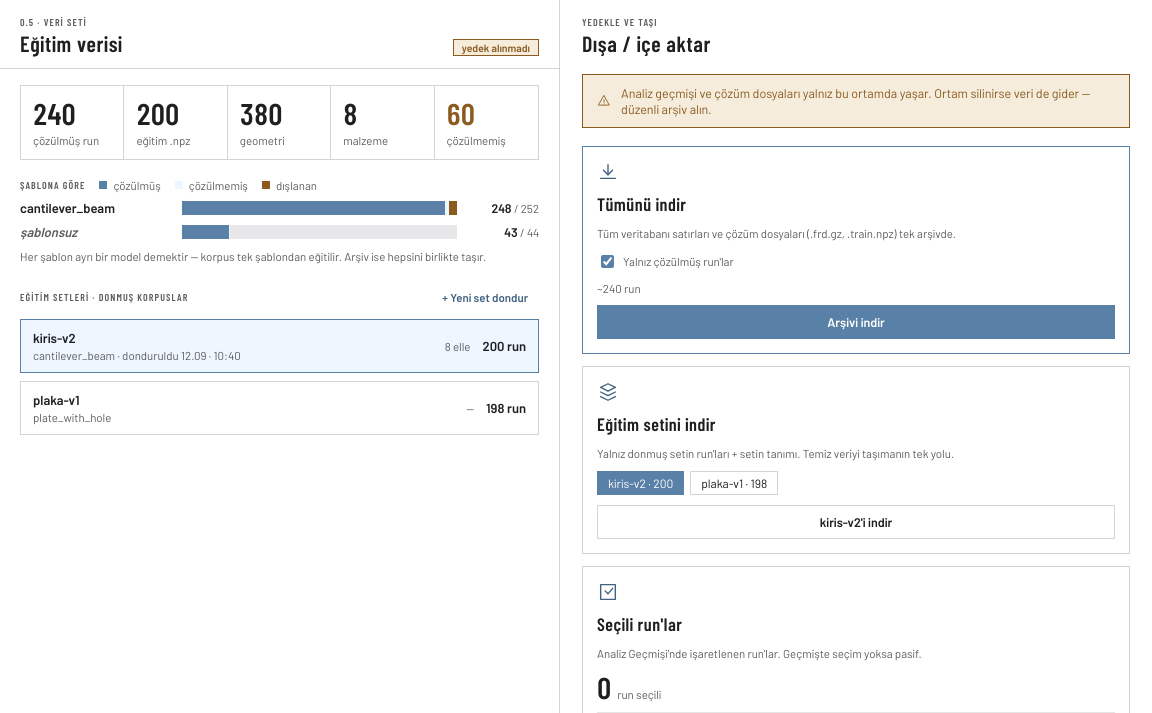
Test case: DatasetPanel — veri seti aşaması › yeni set dondurur, listeyi yeniler ve günlüğe yazar
This screenshot has width=1152, height=713.
Click the button "+ Yeni set dondur".
click(485, 297)  # box 431,283 -> 539,311
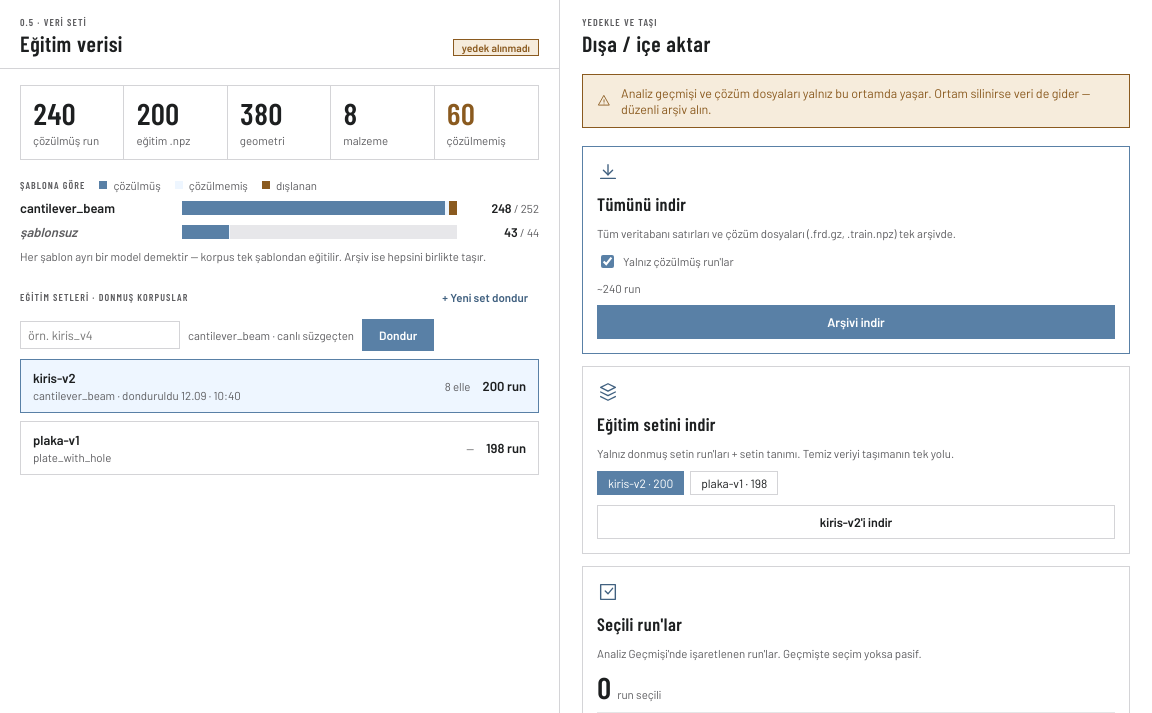
Type "kiris_v4" into the field named "Yeni set adı".
click(100, 335); type("kiris_v4")  # box 20,321 -> 180,349
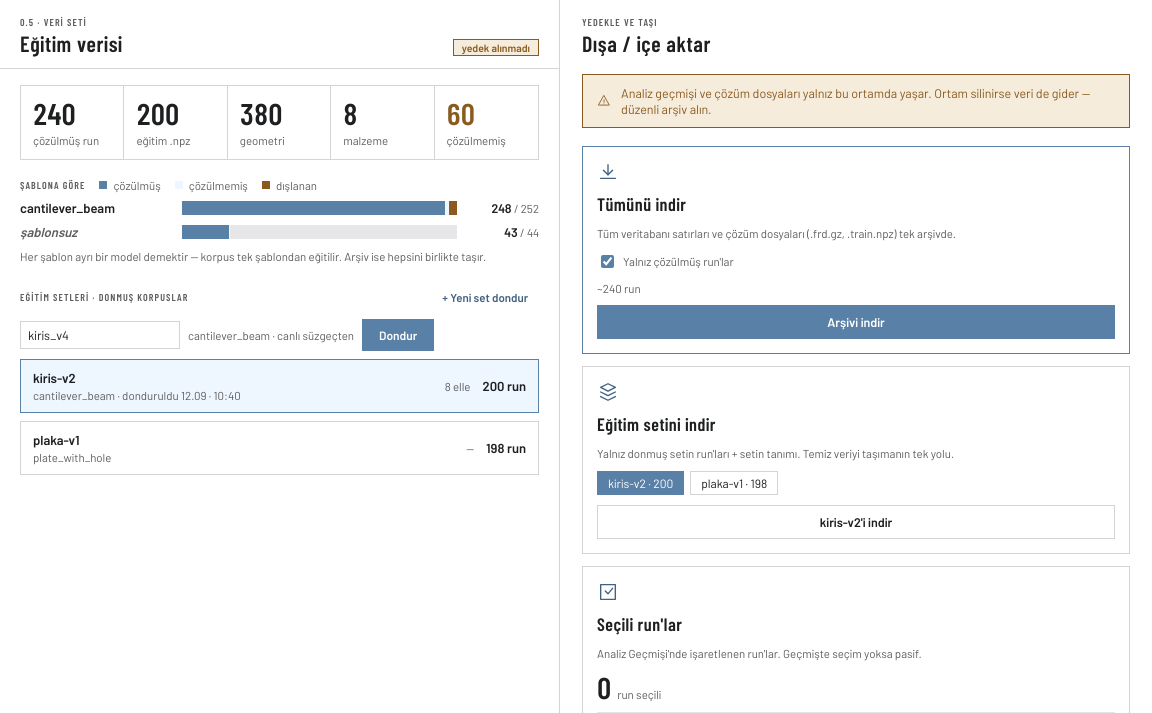
Click the button "Dondur".
click(398, 335)  # box 362,319 -> 434,351
(page scrolled)
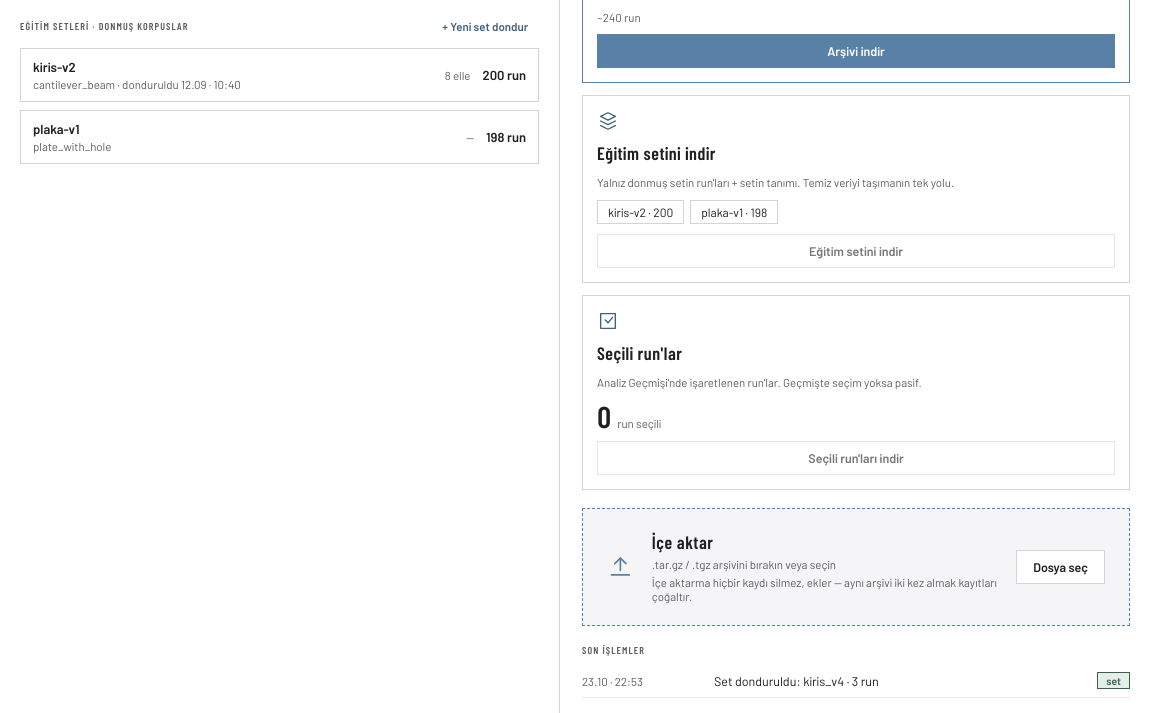
Expected: the text "Set donduruldu: kiris_v4 · 3 run" is shown, 714,672 -> 879,688
